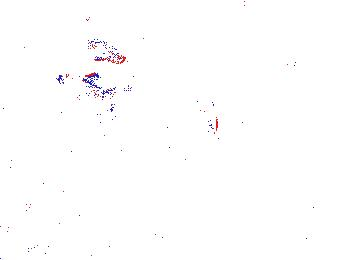glassfish: (182, 67, 221, 138)
red belly glassfish: (83, 15, 108, 25)
redtail glassfish: (56, 73, 117, 101), (82, 37, 127, 65)
